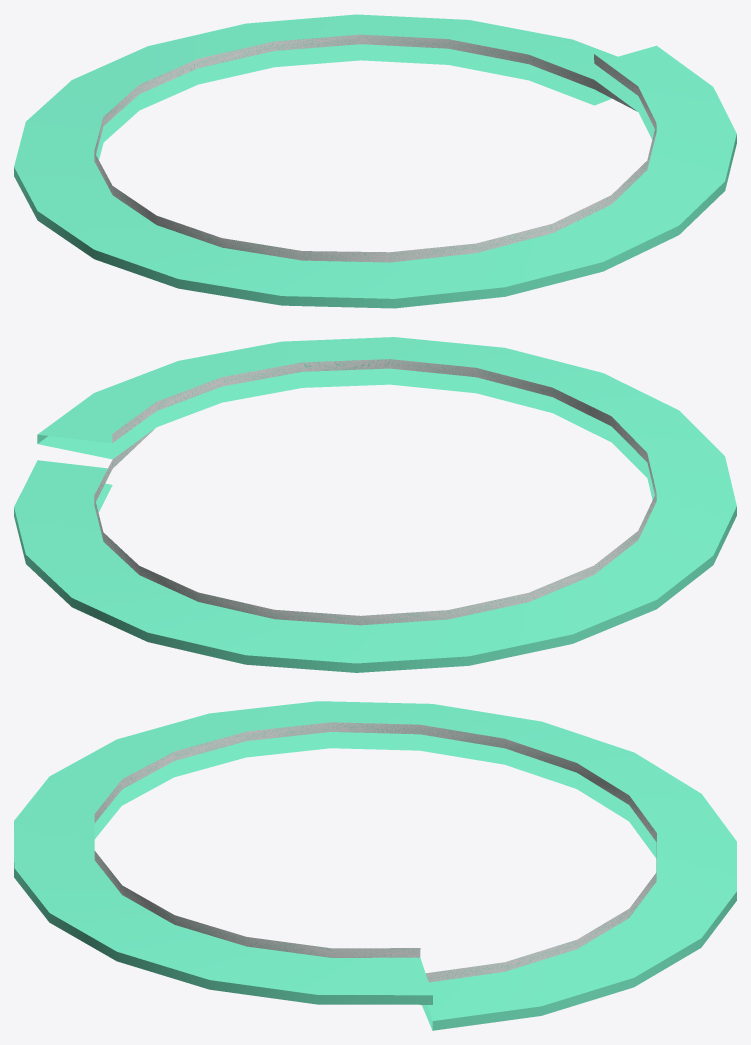
File: original-10.obj
3 views of the same model, one above another, from view 1: azimuth 30°, elevation 25°; view 2: azimuth 150°, elevation 25°; view 3: azimuth 270°, elevation 25° (orthographic).
Parts seen in each view (by area): view 1: _1_1_7/_1_1/mesh1/mesh1-geometry#mesh1-geometry; view 2: _1_1_7/_1_1/mesh1/mesh1-geometry#mesh1-geometry; view 3: _1_1_7/_1_1/mesh1/mesh1-geometry#mesh1-geometry.
Boxes of the visible parts, <box> form: _1_1_7/_1_1/mesh1/mesh1-geometry#mesh1-geometry: <box>14,14,736,308</box>; _1_1_7/_1_1/mesh1/mesh1-geometry#mesh1-geometry: <box>14,337,736,672</box>; _1_1_7/_1_1/mesh1/mesh1-geometry#mesh1-geometry: <box>14,701,736,1030</box>.
Bounding box in the file's own units: 0.4024 × 0.0319 × 0.4024.
